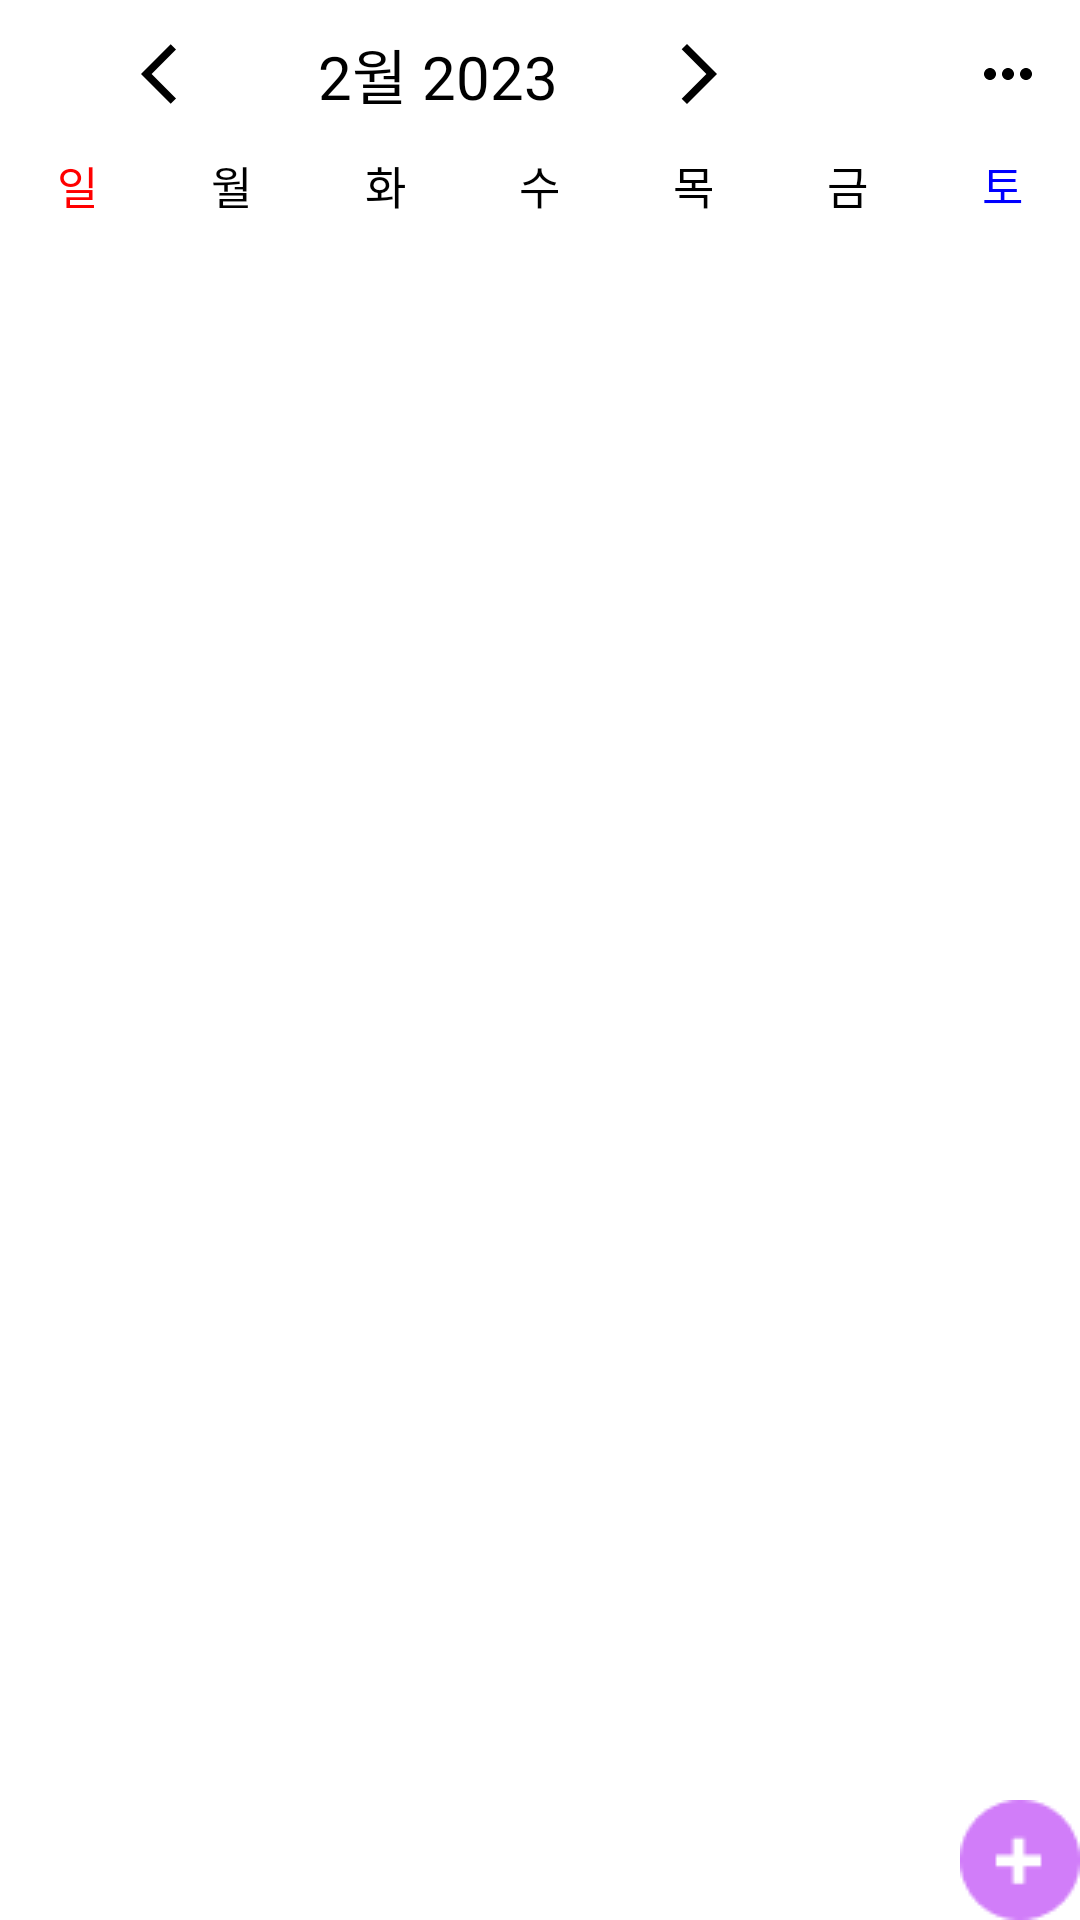

Icons on this 1080px x 1920px Android screen, each with its box as (x1, y1, x2, y2):
more horiz: (984, 68, 1032, 80)
next month: (682, 44, 717, 104)
plus: (960, 1800, 1080, 1920)
pre month: (141, 44, 176, 104)
